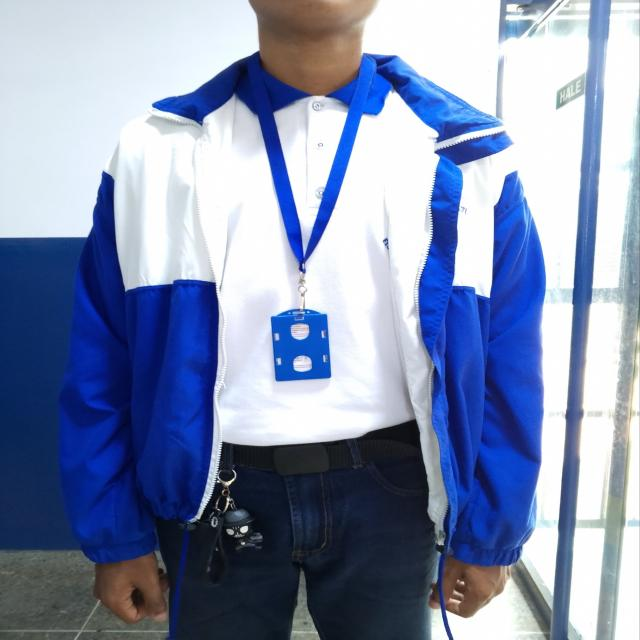carnet: (270, 313, 332, 382)
chaqueta_unefa: (55, 50, 548, 568)
